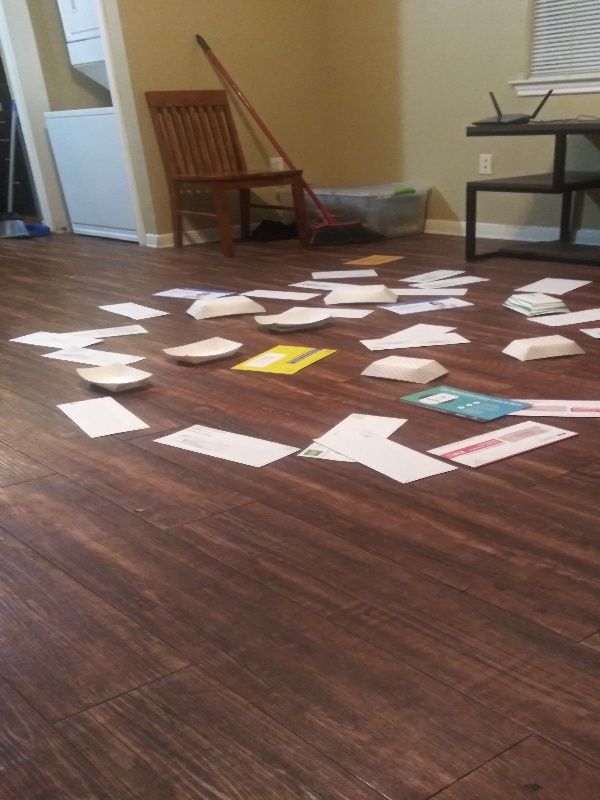plate: (158, 332, 248, 370), (495, 330, 590, 366), (356, 354, 452, 387), (71, 359, 157, 395), (184, 292, 269, 325), (252, 306, 333, 337), (499, 291, 573, 320), (317, 283, 399, 308)
